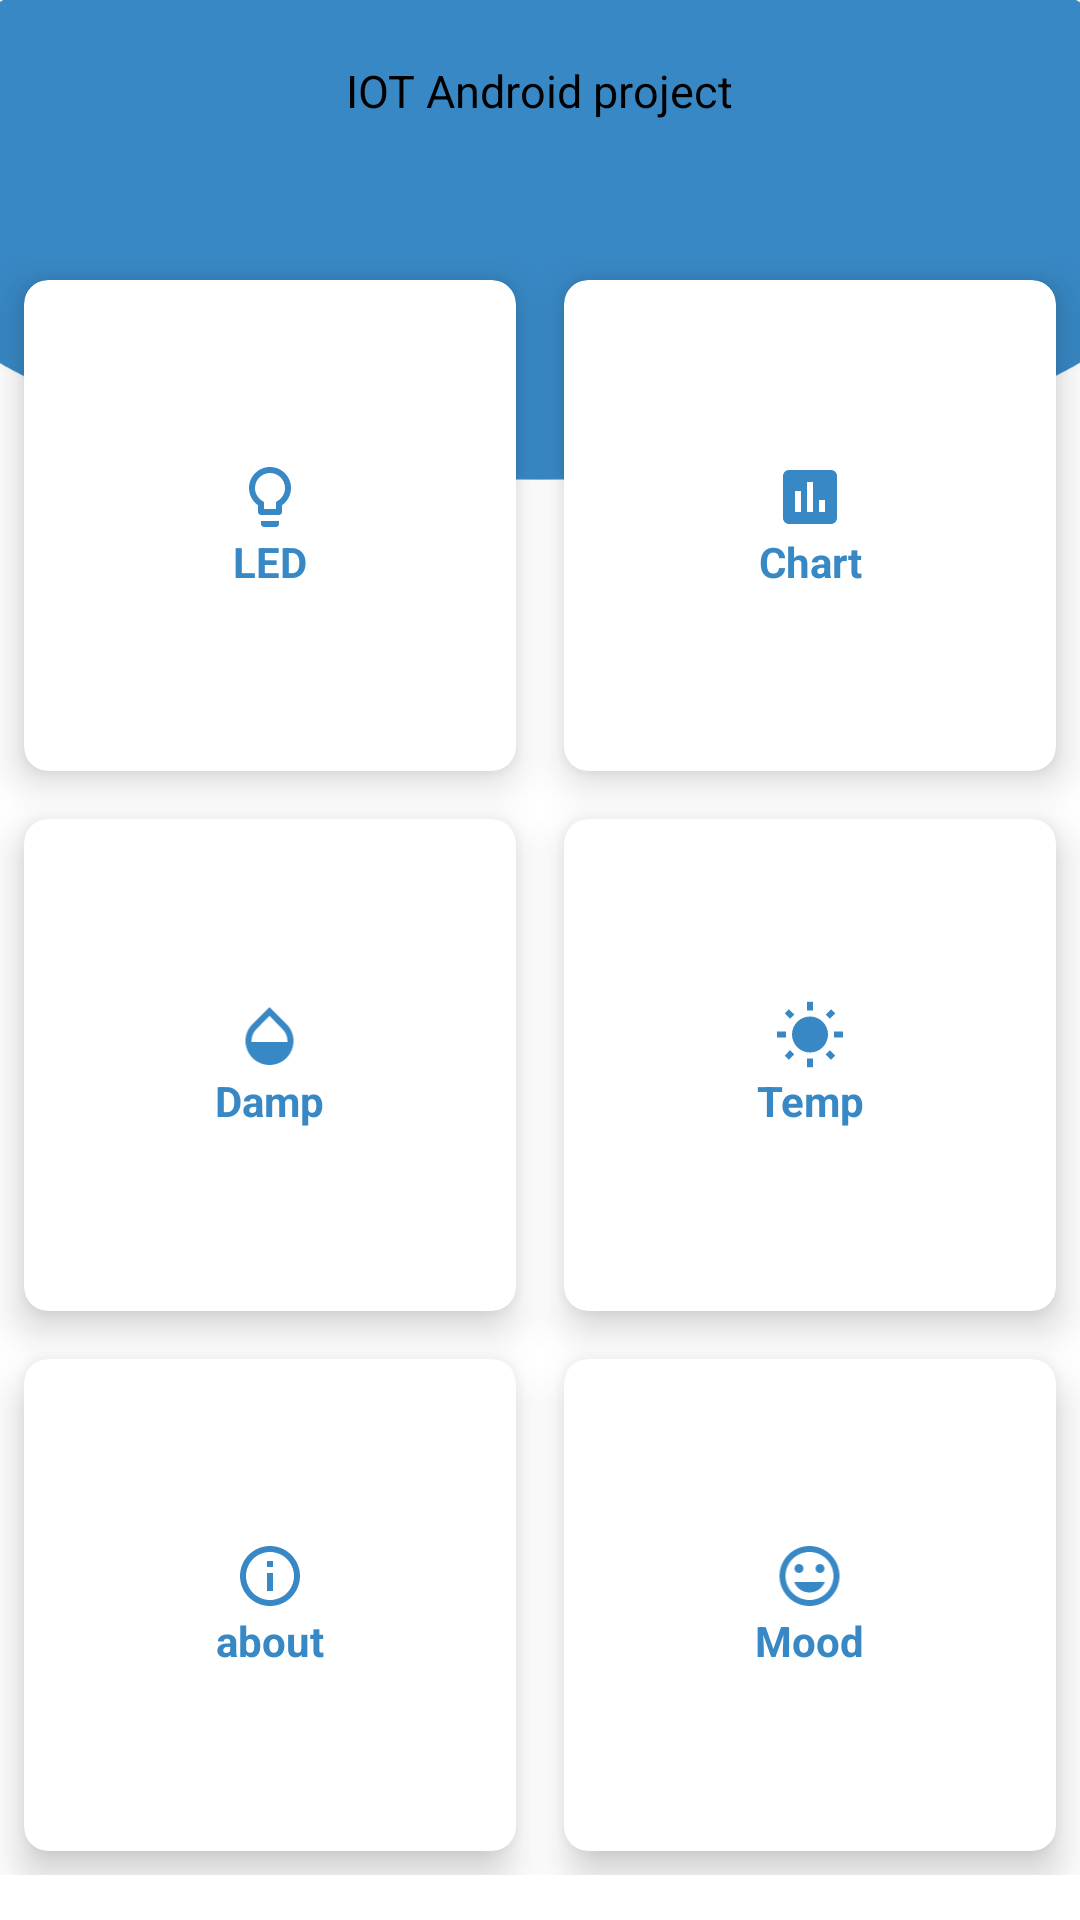

Screen size 1080px×1920px. Icon name, then its center in pixels as (x=x, y=y):
info: (x=270, y=1576)
lightbulb: (x=270, y=497)
opacity: (x=269, y=1036)
sunny: (x=810, y=1034)
